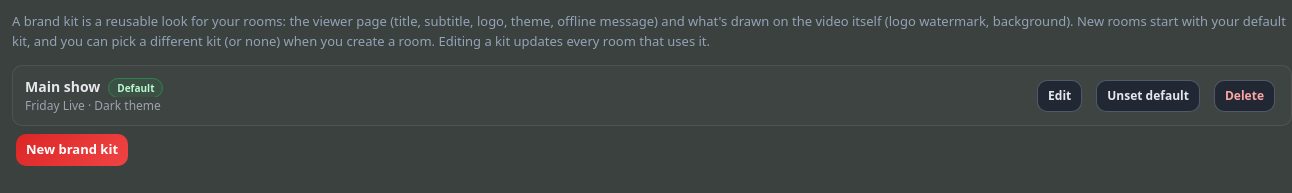
Test: SettingsBrandKits › deletes a kit after confirmation and clears the default
What coordinates should you click on to do the following:
click the button "Delete"
I would click on:
 (1244, 96)
Its box is [1214, 80, 1275, 112].
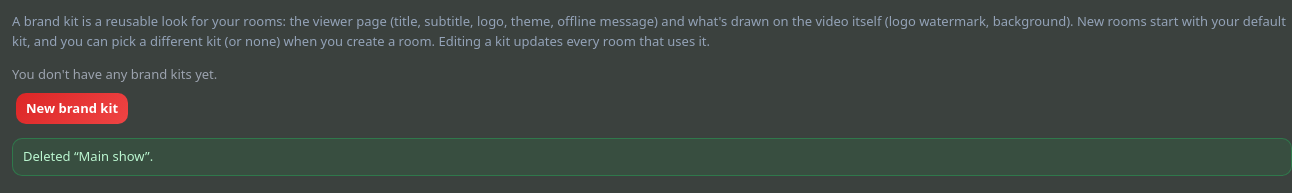
Expected: the text "You don't have any brand kits yet." is shown, [12, 65, 217, 83]
Expected: the element with test id "brand-kit-row" is gone
